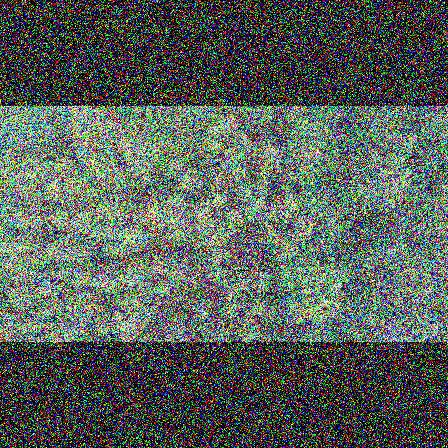Sick: (196, 227, 231, 251)
